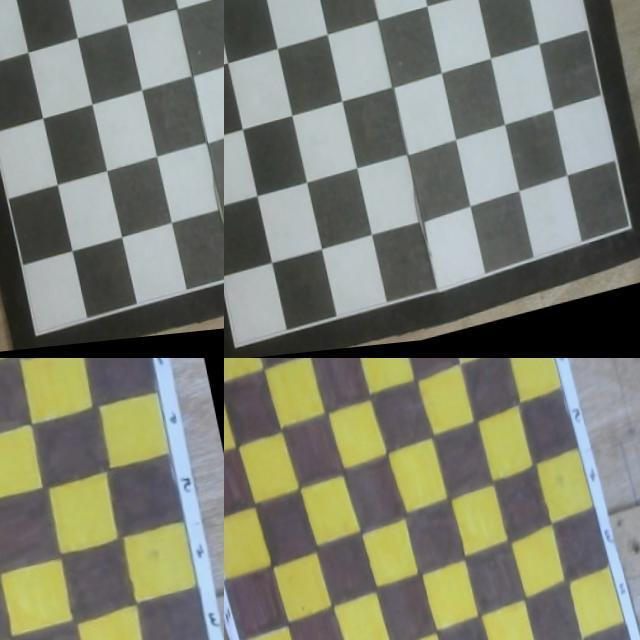chess-table-corners: (0, 377, 5, 392), (622, 234, 629, 244), (28, 332, 34, 341), (226, 346, 232, 355), (224, 0, 228, 5)
